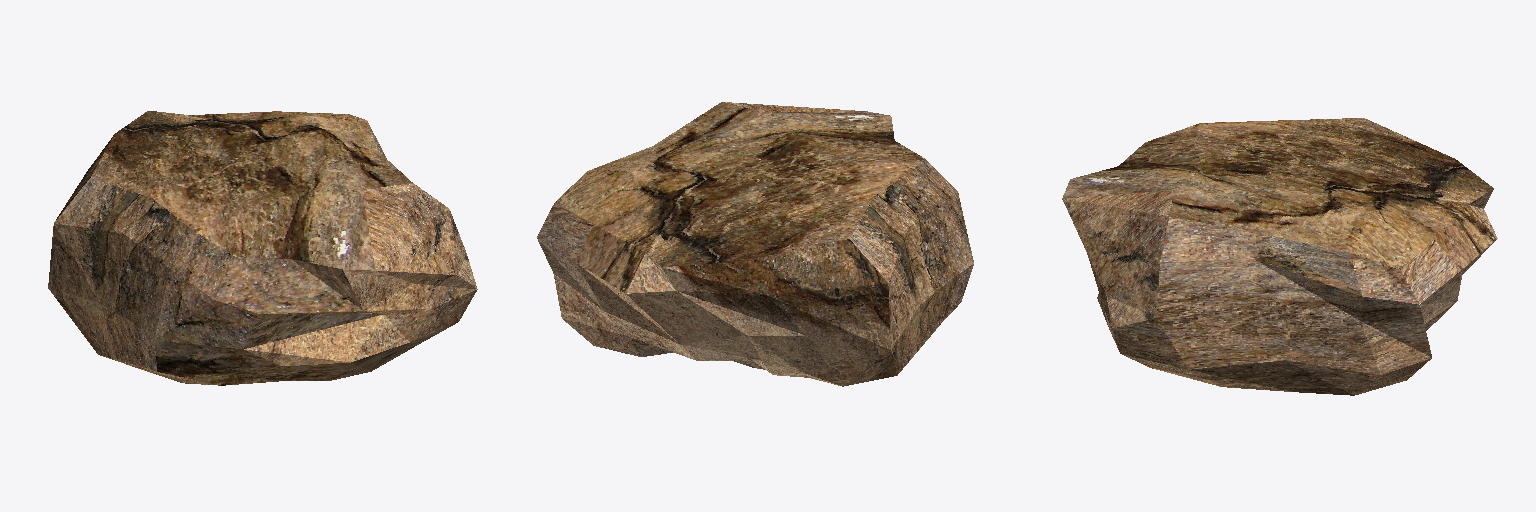
The picture shows the model from 3 angles: view 1: azimuth 30°, elevation 25°; view 2: azimuth 150°, elevation 25°; view 3: azimuth 270°, elevation 25°; orthographic projection.
Parts seen in each view (by area): view 1: Cube; view 2: Cube; view 3: Cube.
Part boxes in pixels (bbox=[...]): Cube: bbox=[48, 111, 477, 385]; Cube: bbox=[537, 102, 973, 386]; Cube: bbox=[1062, 118, 1497, 395].
Size of the model in its own units: 3.18 by 1.68 by 3.63.
2 materials, 1 textured.